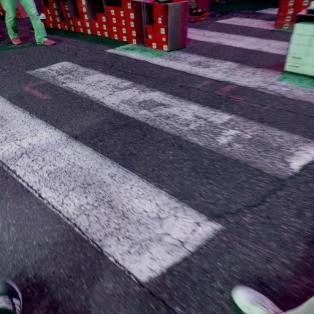Paso de Cebra: (0, 54, 314, 287)
